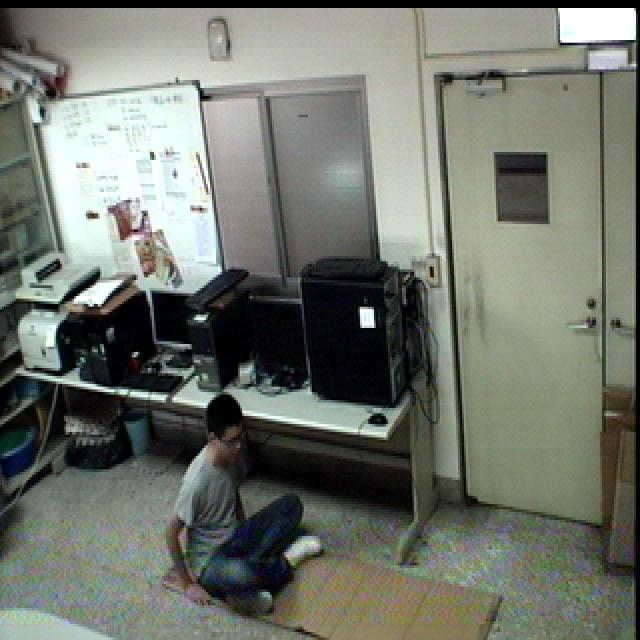sit: (164, 390, 328, 623)
